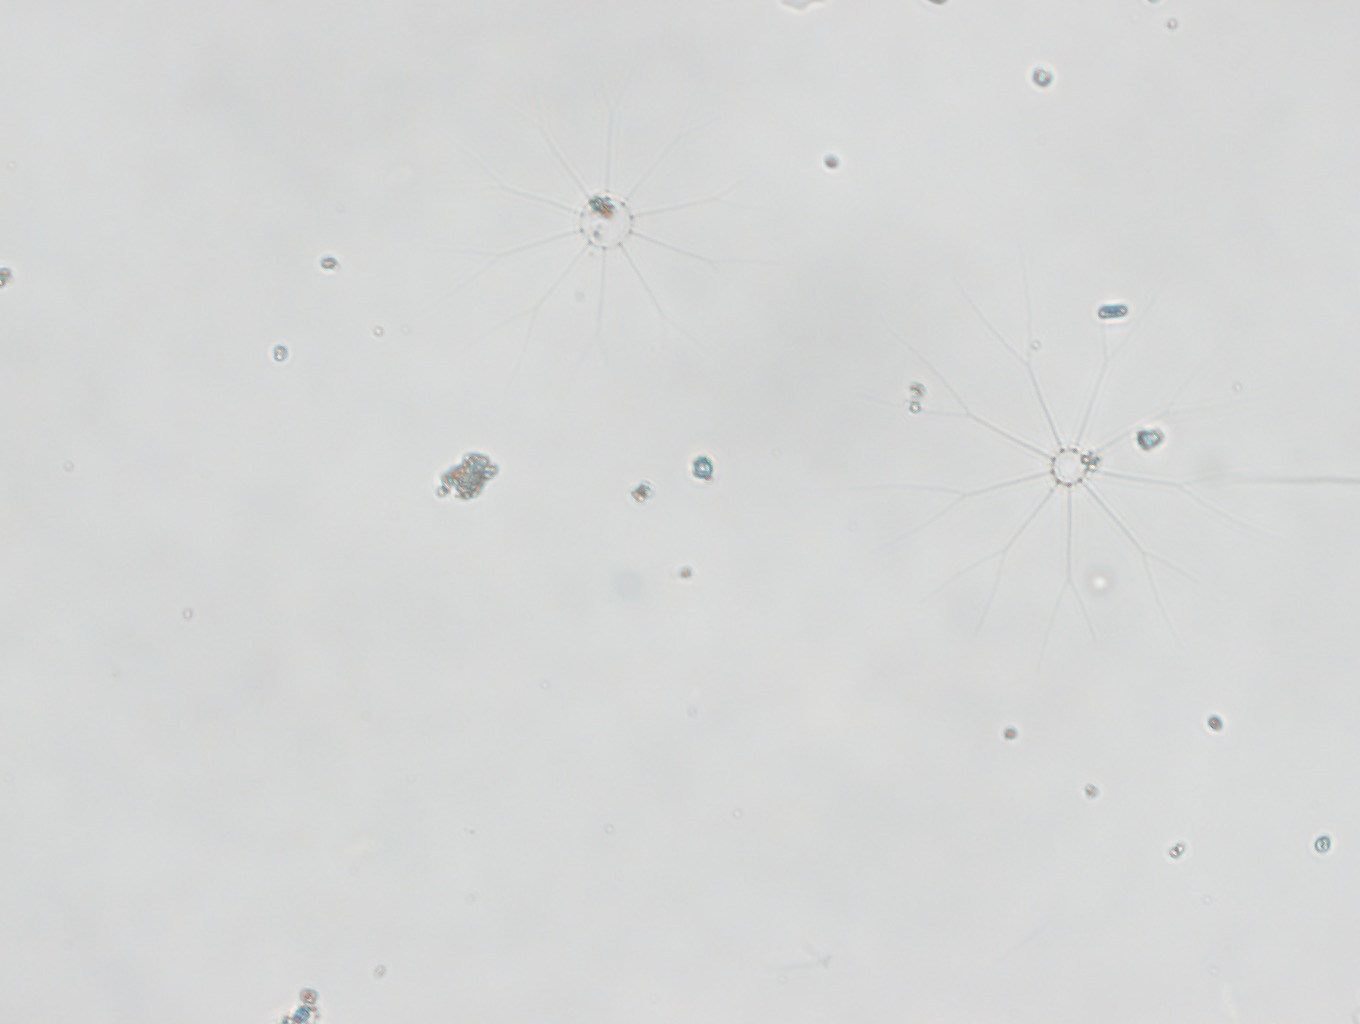bacteriastrum: (881, 272, 1271, 675), (459, 76, 791, 372)
